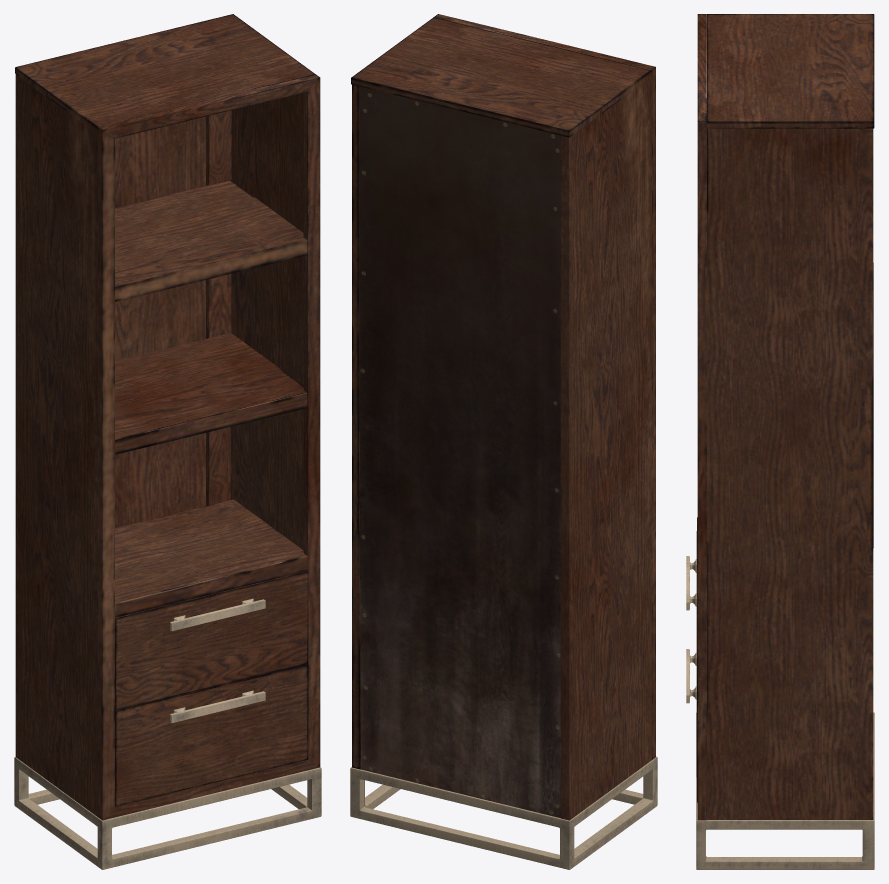
Rendered from bookshelf_B074KKXLK1.glb.
The picture shows the model from 3 angles, left to right: view 1: azimuth 30°, elevation 25°; view 2: azimuth 150°, elevation 25°; view 3: azimuth 270°, elevation 25°; orthographic projection.
Visible parts, largest first — view 1: RootNode; view 2: RootNode; view 3: RootNode.
Boxes of the visible parts, x1=… form: RootNode: x1=14, y1=14, x2=321, y2=869; RootNode: x1=350, y1=14, x2=657, y2=869; RootNode: x1=686, y1=14, x2=874, y2=869.
Size of the model in its own units: 0.5388 by 1.73 by 0.3951.
Materials: 1 (1 with a texture image).
